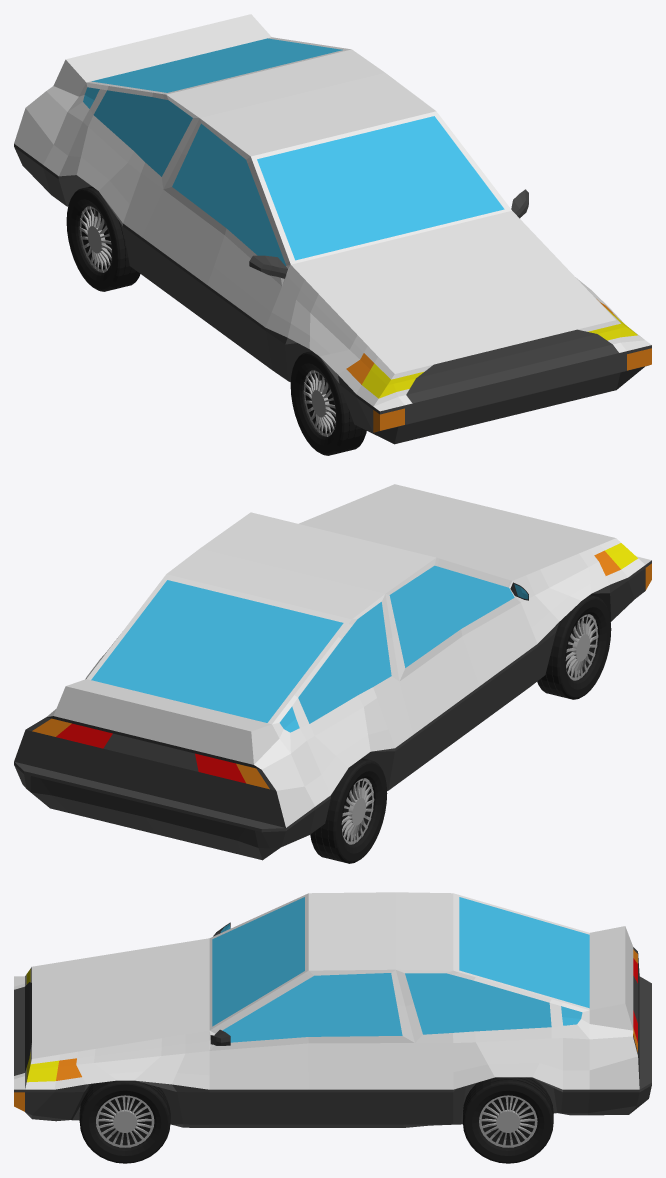
The model's file is carNew.fbx.
3 renders of one model, top to bottom at view 1: azimuth 30°, elevation 25°; view 2: azimuth 150°, elevation 25°; view 3: azimuth 270°, elevation 25°, orthographic. The views are drawn at different scales.
Parts seen in each view (by area): view 1: ae86, Circle.001, Circle; view 2: ae86, Circle.001, Circle; view 3: ae86, Circle.002, Circle.003.
Part boxes in pixels (bbox=[...]): ae86: bbox=[14, 14, 651, 444]; Circle.001: bbox=[66, 186, 140, 291]; Circle: bbox=[290, 351, 366, 455]; ae86: bbox=[14, 484, 651, 860]; Circle.001: bbox=[310, 758, 387, 863]; Circle: bbox=[537, 595, 611, 699]; ae86: bbox=[14, 892, 651, 1127]; Circle.002: bbox=[463, 1077, 553, 1163]; Circle.003: bbox=[79, 1080, 170, 1163].
Size of the model in its own units: 353 by 251 by 816.
